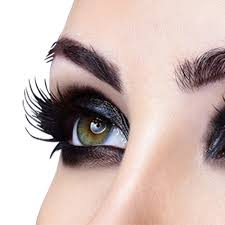pupil: (77, 112, 112, 146)
